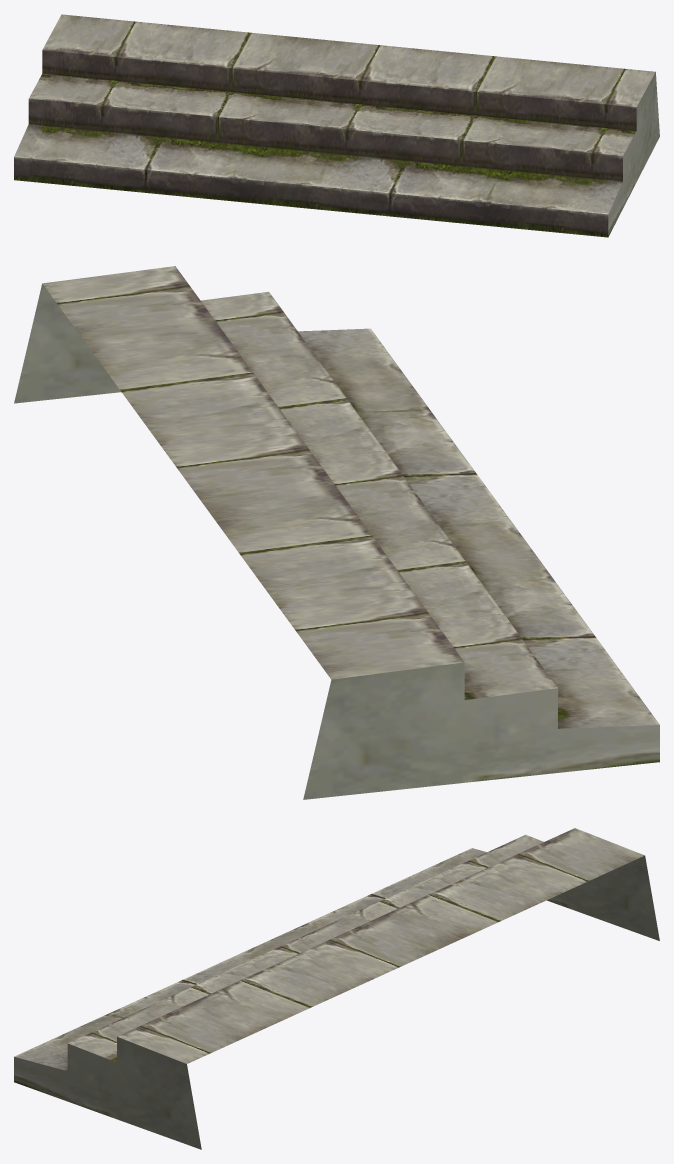
The model's file is xsz_louti_5.FBX.
The picture shows the model from 3 angles, top to bottom: view 1: azimuth 30°, elevation 25°; view 2: azimuth 150°, elevation 25°; view 3: azimuth 270°, elevation 25°; orthographic projection. The views are drawn at different scales.
Visible parts, largest first — view 1: xsz_louti_5; view 2: xsz_louti_5; view 3: xsz_louti_5.
Part boxes in pixels (<box>): xsz_louti_5: <box>14,14,659,237</box>; xsz_louti_5: <box>14,266,659,799</box>; xsz_louti_5: <box>14,828,659,1149</box>.
Bounding box in the file's own units: 231 × 223 × 32.72.
